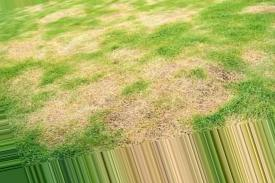patch: (45, 81, 96, 123), (64, 34, 135, 60), (192, 57, 234, 80), (141, 57, 173, 82), (139, 86, 172, 109), (101, 72, 123, 106), (181, 87, 209, 113), (243, 39, 269, 67), (6, 38, 45, 54), (49, 7, 90, 21), (134, 13, 182, 22), (121, 120, 148, 135), (188, 7, 206, 23), (237, 6, 271, 12), (145, 26, 163, 35)
